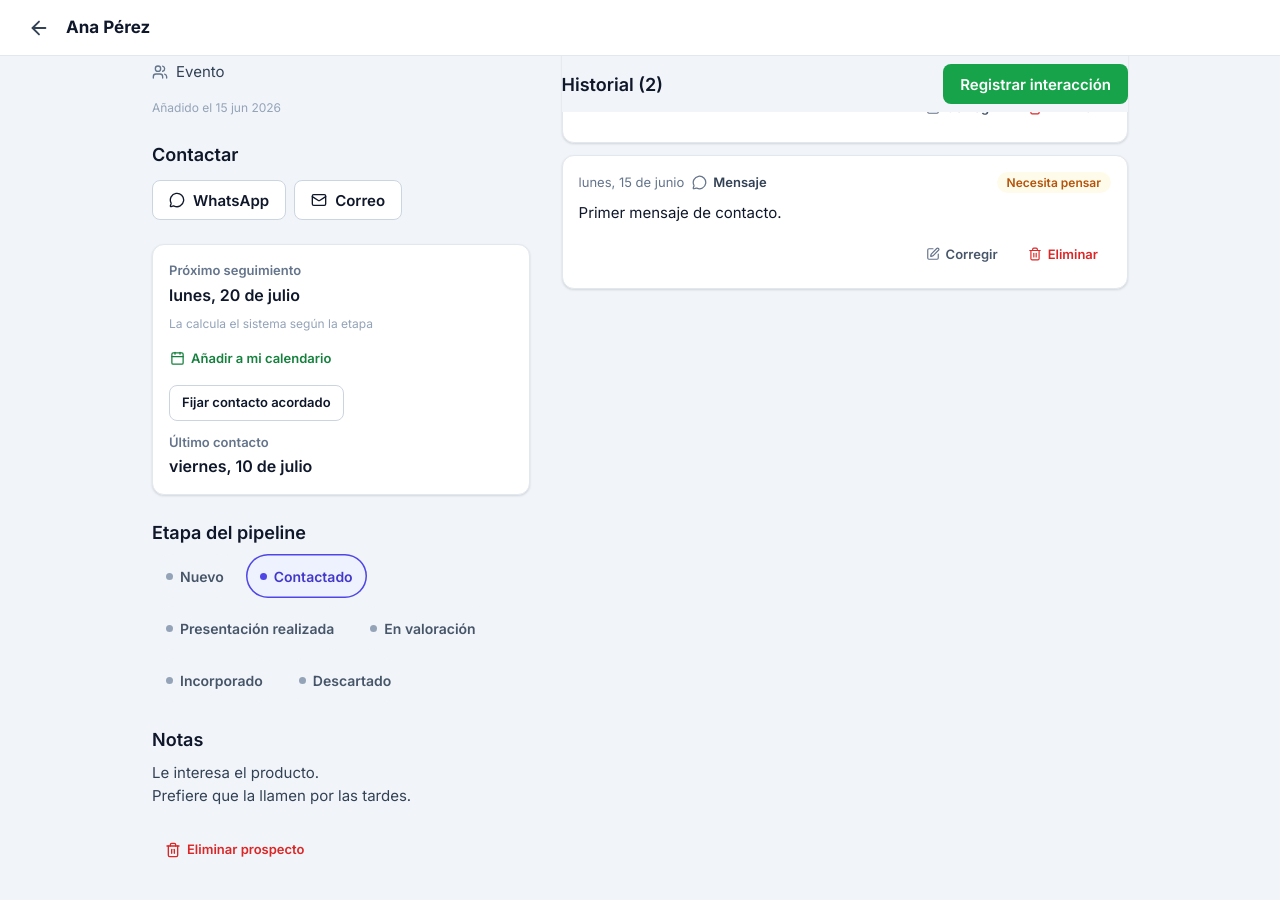
eliminar prospecto (JOS-80) › el botón abre la confirmación
(page scrolled)
Click the button "Eliminar prospecto" at (235, 850), box [152,832,317,868]
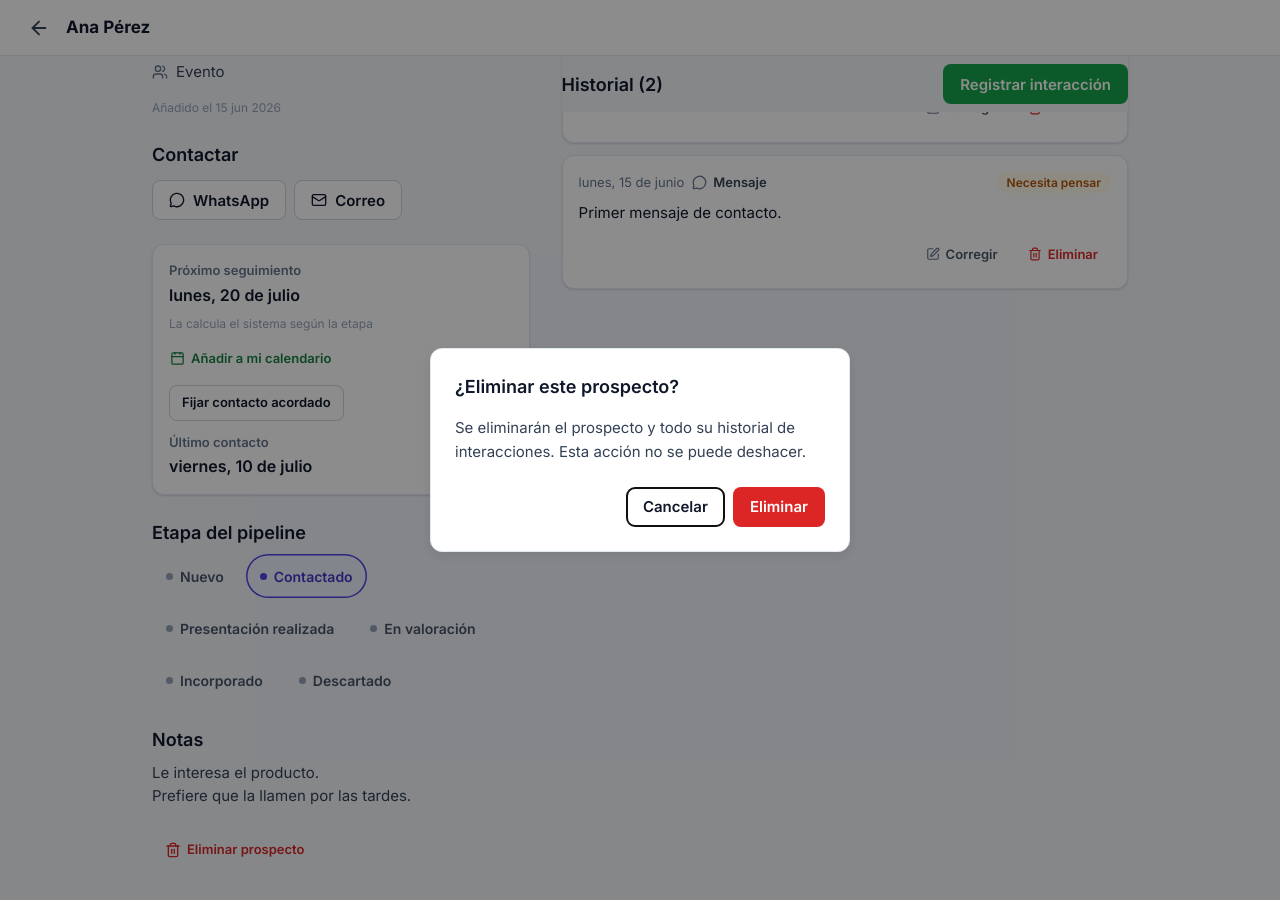
Check: the dialog is shown, box [430,348,850,552]
